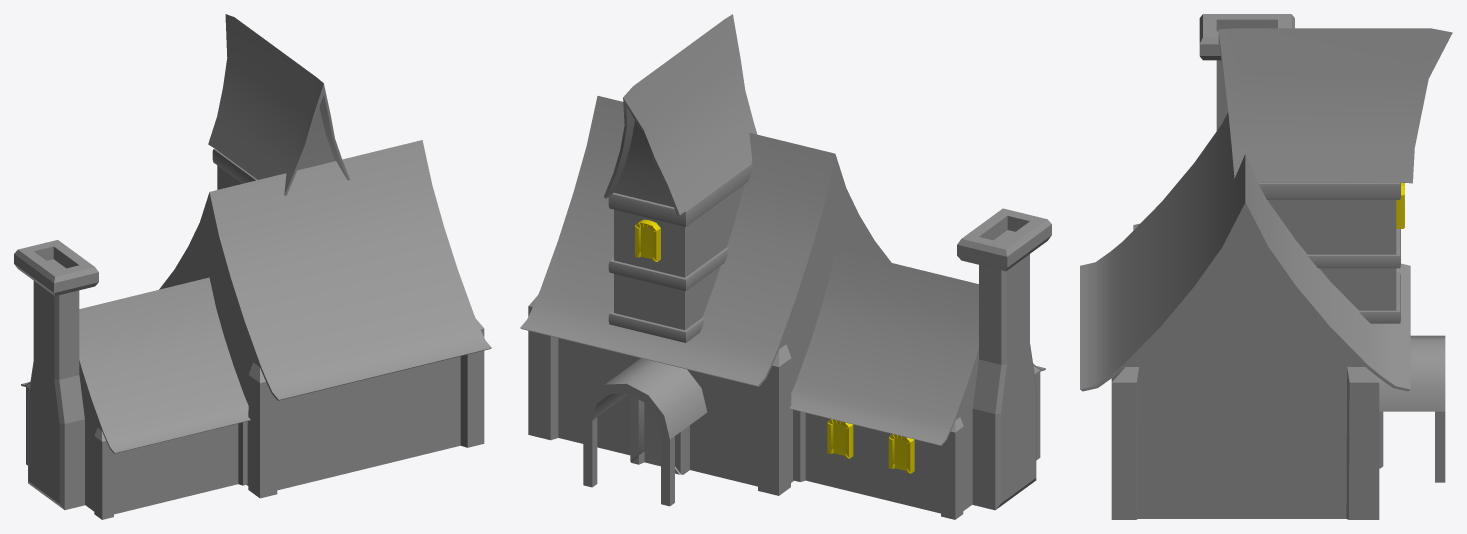
The model's file is Building2.FBX.
3 views of the same model, side by side, from view 1: azimuth 30°, elevation 25°; view 2: azimuth 150°, elevation 25°; view 3: azimuth 270°, elevation 25° (orthographic). The views are drawn at different scales.
Parts seen in each view (by area): view 1: Box006, Box015, Box008, Box009; view 2: Box006, Box015, Box008, Box009, Box011, Box010, Box029, Box031, Box030; view 3: Box006, Box008, Box011, Box009.
Part boxes in pixels (x1,y1,x2,y2): Box006: (159,140,491,498); Box015: (21,277,250,519); Box008: (208,14,349,195); Box009: (14,240,98,509); Box006: (520,96,891,495); Box015: (789,249,1045,519); Box008: (604,14,757,342); Box009: (957,208,1051,510); Box011: (583,358,707,506); Box010: (630,395,689,474); Box029: (635,219,660,261); Box031: (888,434,914,473); Box030: (827,419,853,458); Box006: (1080,112,1410,519); Box008: (1218,28,1452,323); Box011: (1379,335,1445,482); Box009: (1199,14,1294,130).
Size of the model in its own units: 31.11 by 27.41 by 21.44.
